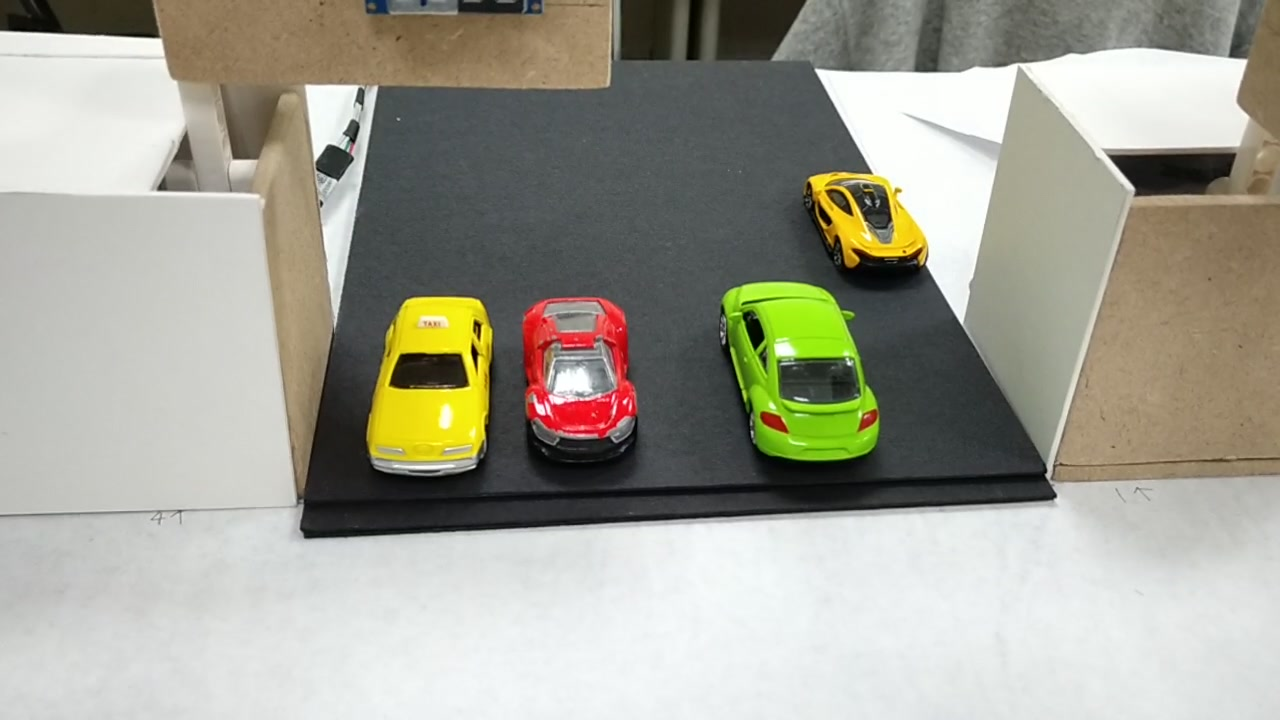car: (725, 272, 882, 467), (365, 295, 492, 481), (523, 296, 643, 460), (812, 169, 924, 274)
